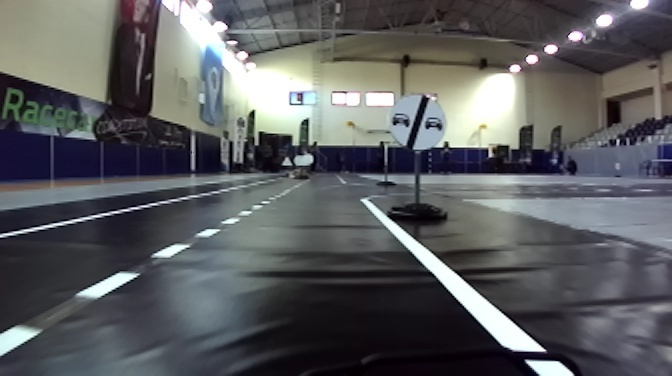sollama_serbest: (389, 93, 446, 150)
